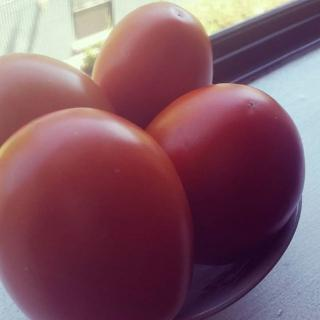tomato: (0, 103, 196, 319), (146, 80, 306, 268), (93, 0, 216, 132), (0, 50, 119, 152)
